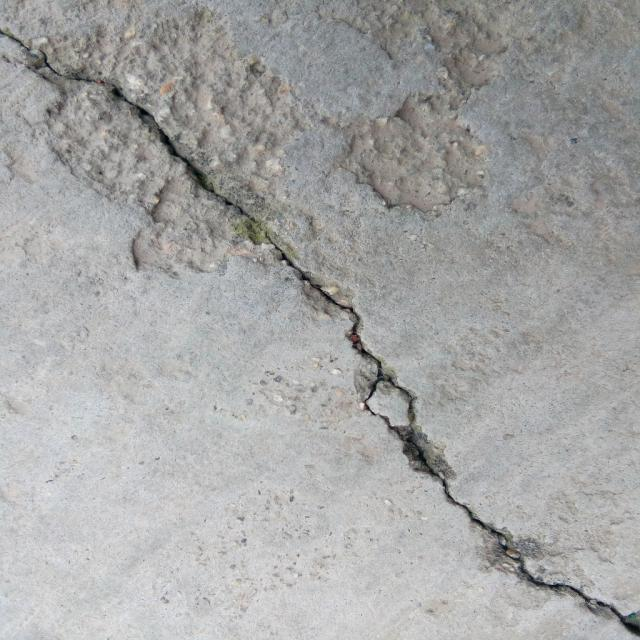cracks: (25, 26, 629, 621), (313, 5, 552, 220)
